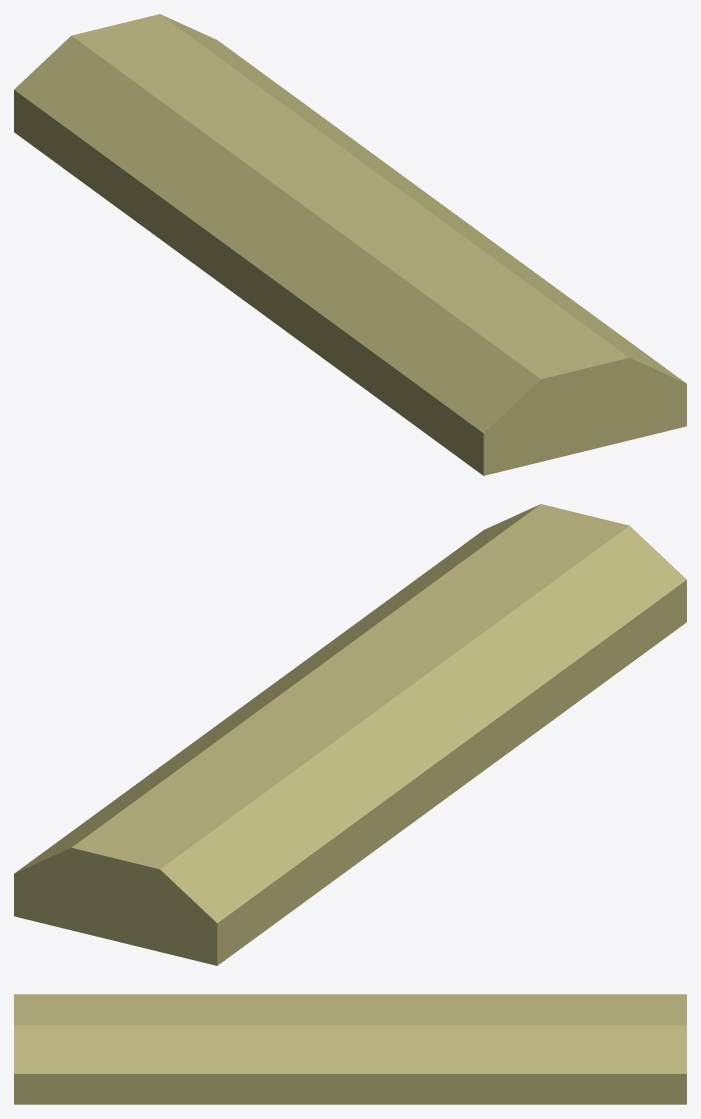
File: SM_lampIndustrial_01.glb
The picture shows the model from 3 angles, top to bottom: view 1: azimuth 30°, elevation 25°; view 2: azimuth 150°, elevation 25°; view 3: azimuth 270°, elevation 25°; orthographic projection. The views are drawn at different scales.
Visible parts, largest first — view 1: SM_lampIndustrial_01; view 2: SM_lampIndustrial_01; view 3: SM_lampIndustrial_01.
Part boxes in pixels (bbox=[...]): SM_lampIndustrial_01: bbox=[14, 14, 686, 475]; SM_lampIndustrial_01: bbox=[14, 504, 686, 965]; SM_lampIndustrial_01: bbox=[14, 994, 686, 1104].
Bounding box in the file's own units: 0.5 × 0.194 × 2.
1 material, 1 textured.
